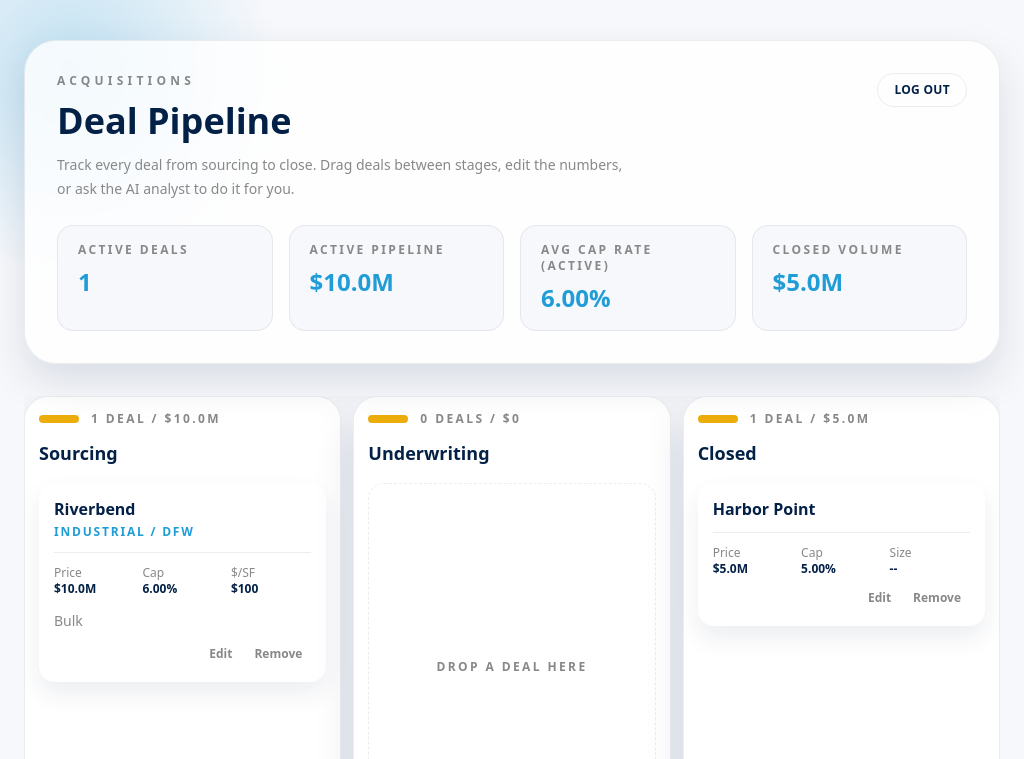
Test: KanbanBoard › edits a deal
Expected: the heading "Riverbend" is shown, [54,498,136,520]
Click the button with aria-label "Edit Riverbend" at coordinates (221, 654), box [200,641,241,667]
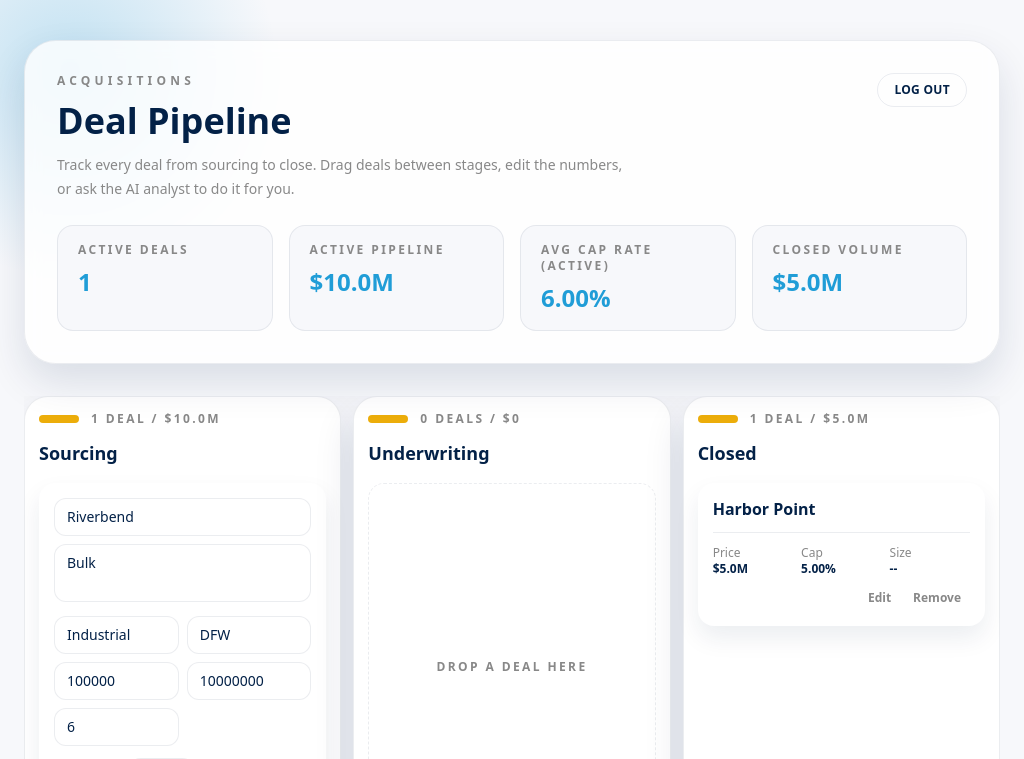
Replace the text in the 3rd number field with placeholder "Cap rate (%)" with "6.5" at coordinates (116, 727), box [54,708,179,746]
(page scrolled)
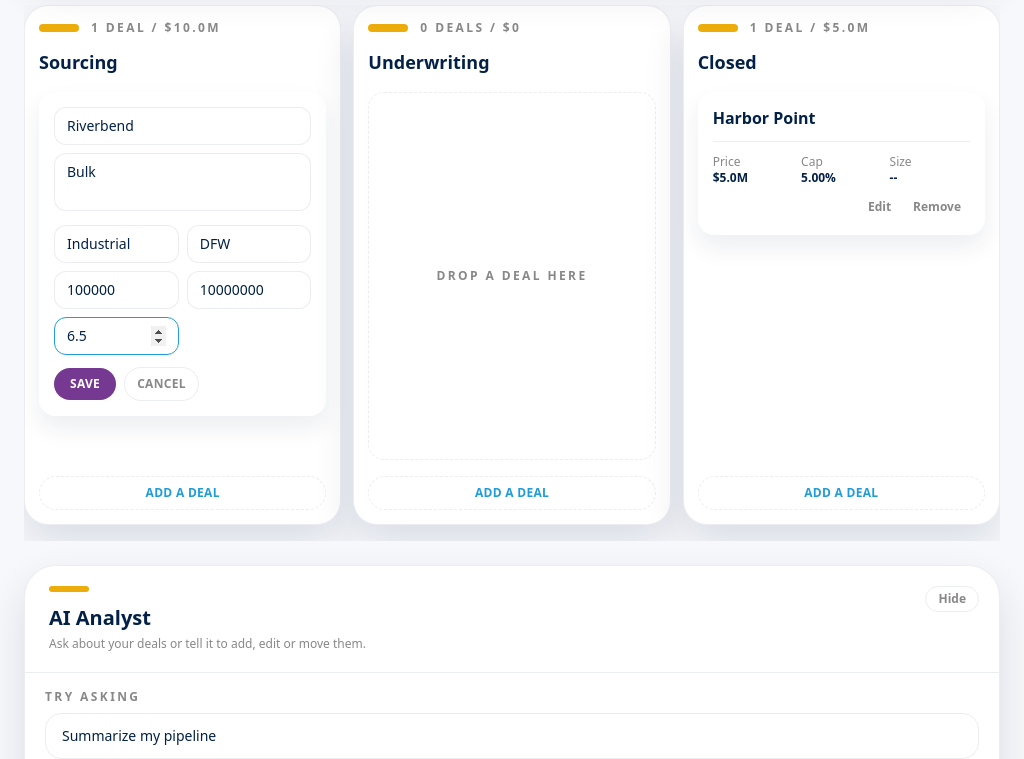
Click the button "Save" at coordinates (85, 384), box [54,368,116,400]
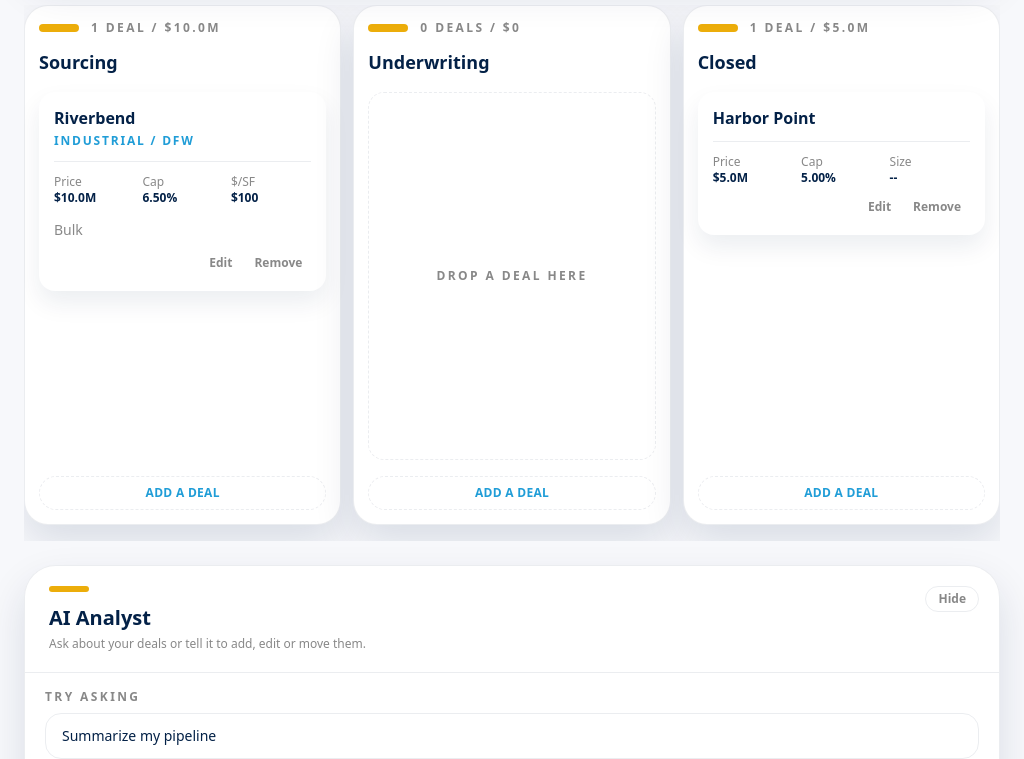
Expected: the text "6.50%" is shown, [142,189,177,206]
